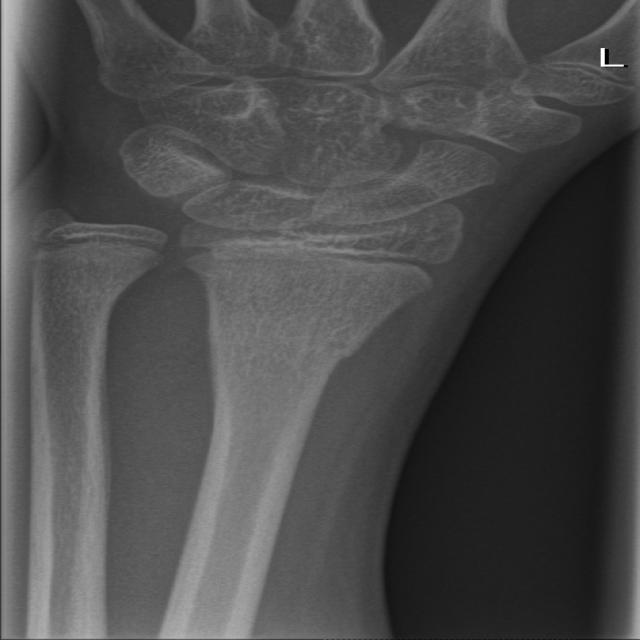radius fracture: (293, 292, 415, 436)
